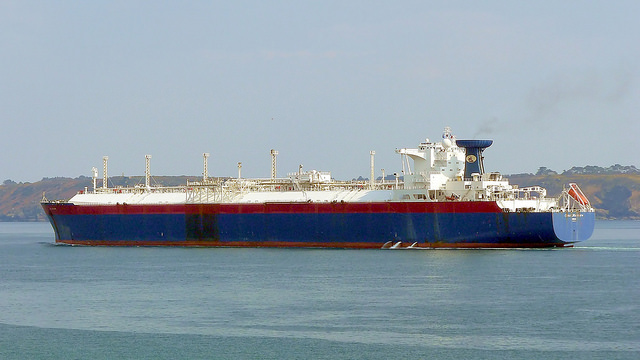LNG_ship: (36, 129, 597, 252)
